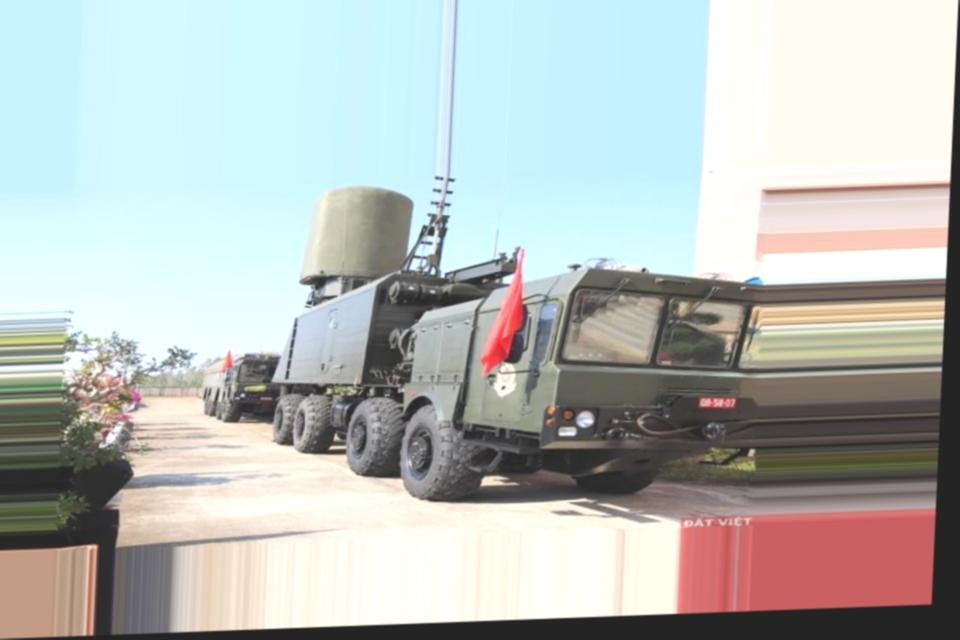License_Plate: (698, 391, 742, 420)
